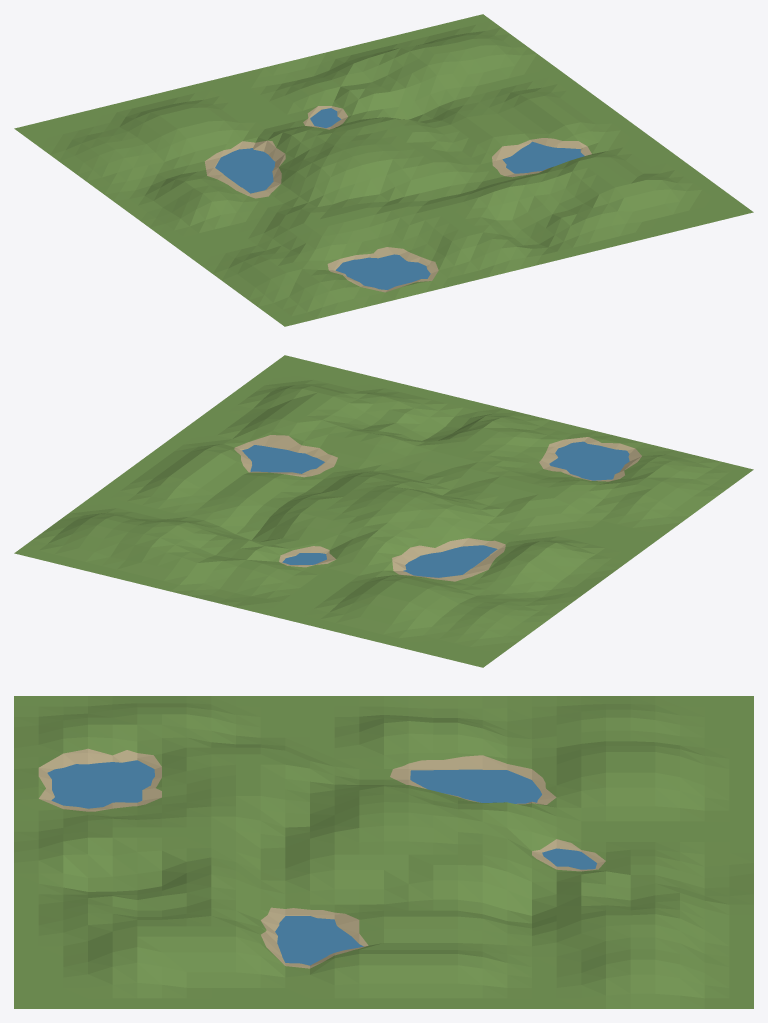
Rendered from Ground_03.FBX.
3 views of the same model, one above another, from view 1: azimuth 30°, elevation 25°; view 2: azimuth 150°, elevation 25°; view 3: azimuth 270°, elevation 25° (orthographic). The views are drawn at different scales.
Visible parts, largest first — view 1: Ground_03; view 2: Ground_03; view 3: Ground_03.
Part boxes in pixels (bbox=[...]): Ground_03: bbox=[14, 14, 753, 326]; Ground_03: bbox=[14, 355, 753, 667]; Ground_03: bbox=[14, 696, 753, 1008].
Bounding box in the file's own units: 50 × 3.04 × 50.
